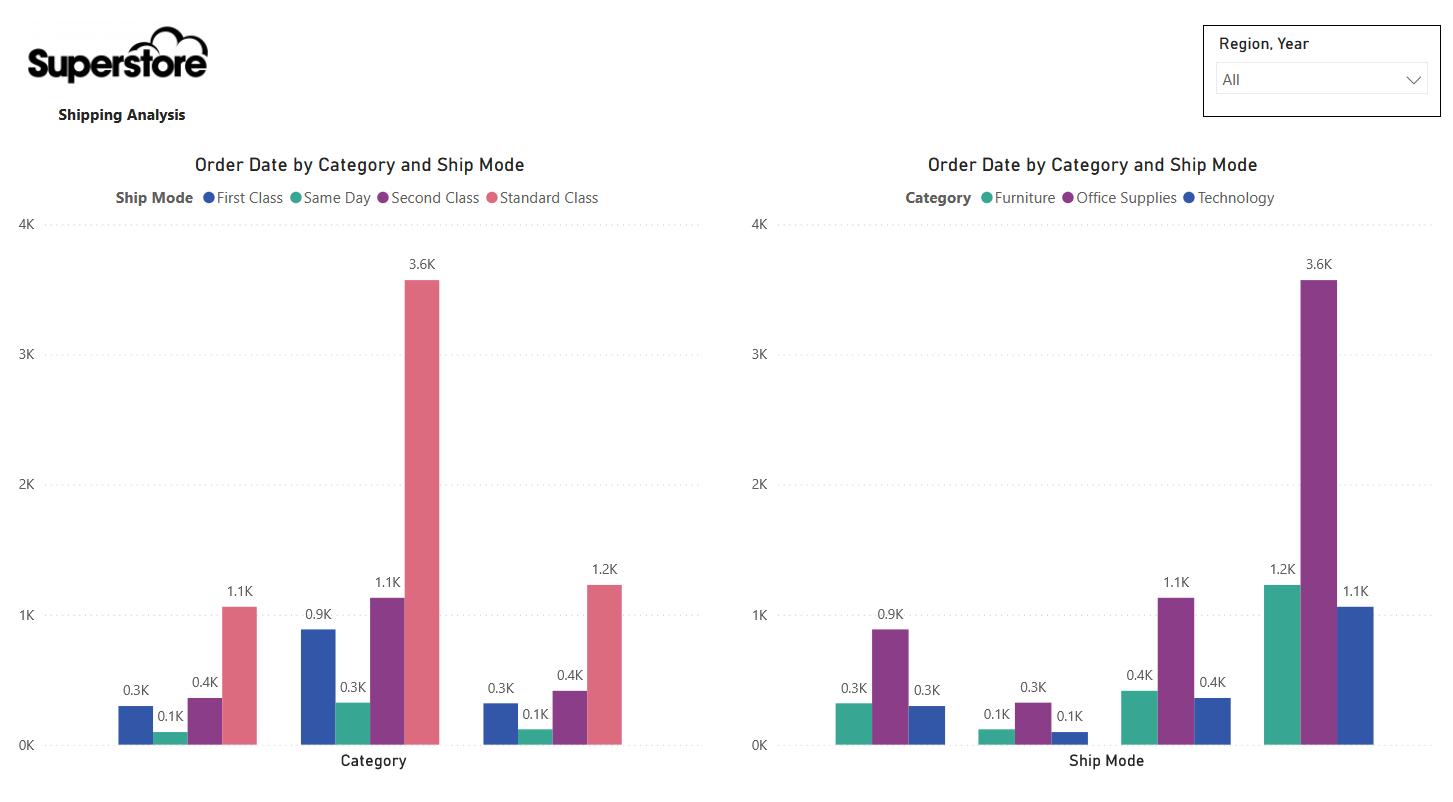

Layout of this report page (visuals, bound fields, positions):
{"tool":"powerbi","page":{"name":"Shipping Analysis","canvas":[1280,720],"ordinal":4},"visuals":[{"type":"image","box":[24,16,168,88],"z":0},{"type":"clusteredColumnChart","title":"Order Date by Category and Ship Mode","fields":{"Category":["Super Store Dataset.Category"],"Series":["Super Store Dataset.Ship Mode"],"Y":["CountNonNull(Super Store Dataset.Ship Date)"]},"box":[16,144,608,544],"z":1000},{"type":"clusteredColumnChart","title":"Order Date by Category and Ship Mode","fields":{"Series":["Super Store Dataset.Category"],"Category":["Super Store Dataset.Ship Mode"],"Y":["CountNonNull(Super Store Dataset.Sub-Category)"]},"box":[656,144,608,544],"z":2000},{"type":"slicer","title":"Filter by","fields":{"Values":["Super Store Dataset.Region","Super Store Dataset.Order Date Hierarchy.Year"]},"box":[1056,32,208,80],"z":3000},{"type":"textbox","box":[16,96,192,32],"z":4000}]}

Visuals, with their boxes in screenshot pixels (x1, y1, x2, y2), scaled from the page's 1280x720 canvas onto the 1453x802 screenshot:
image: rect(27, 18, 218, 116)
"Order Date by Category and Ship Mode" clusteredColumnChart: rect(18, 160, 708, 766)
"Order Date by Category and Ship Mode" clusteredColumnChart: rect(745, 160, 1435, 766)
"Filter by" slicer: rect(1199, 36, 1435, 125)
textbox: rect(18, 107, 236, 143)
